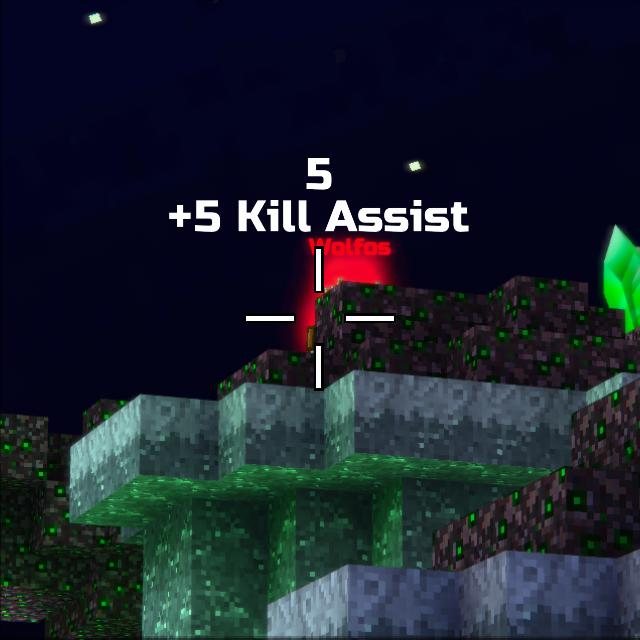Enemy: (306, 283, 392, 373)
